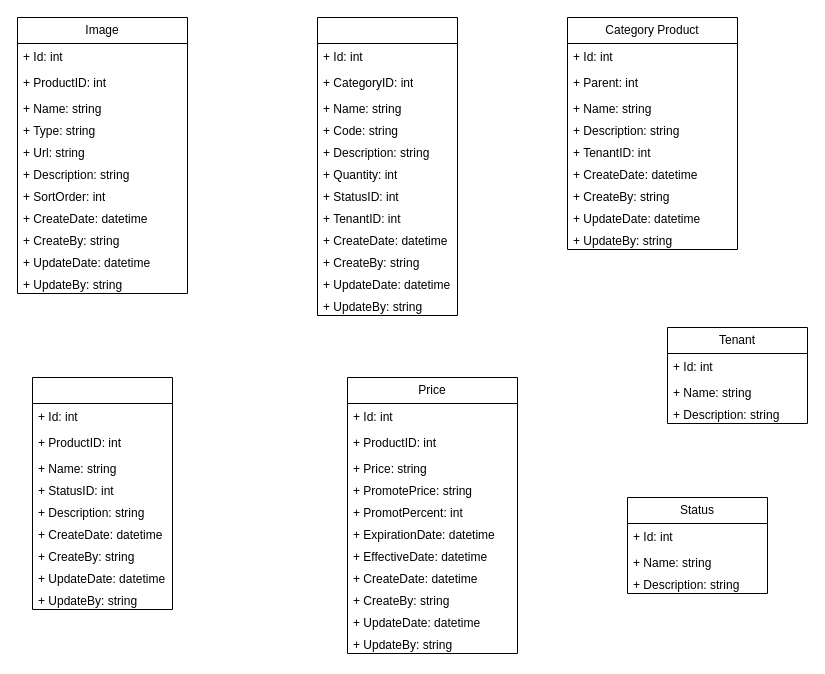
Image size: 825x674. Some labels were removed from this diagram. The box of each missing label's shape, as (x1, y1, x2, y2) in pixels:
Product: (316, 16, 458, 316)
ProductStock: (32, 376, 172, 610)
